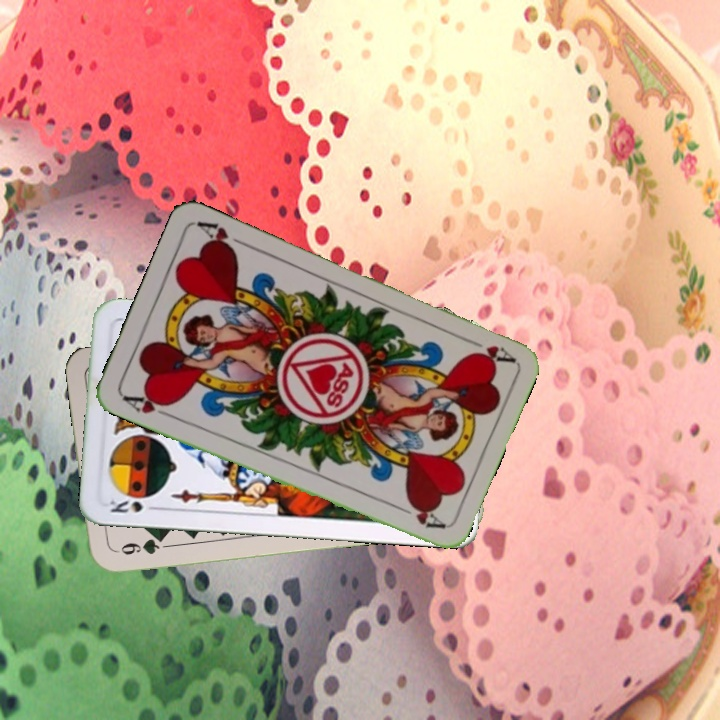G9: (111, 533, 168, 557)
HA: (460, 333, 517, 368), (118, 389, 176, 420)
SK: (106, 494, 163, 516)
